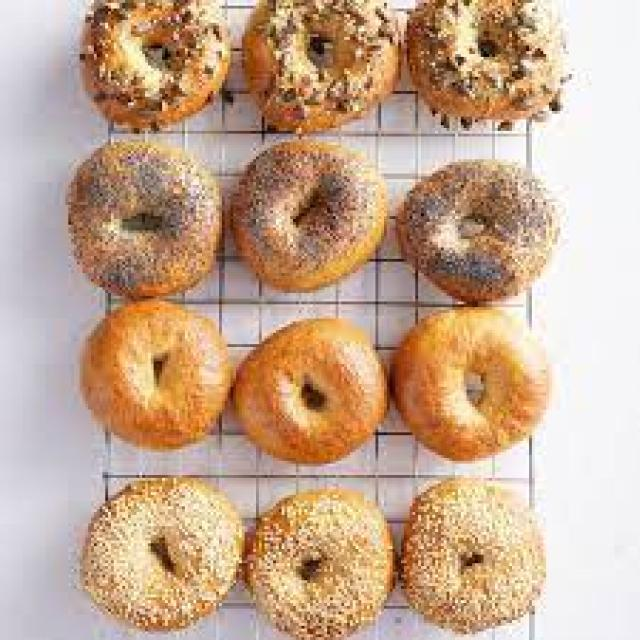Bagel: (82, 479, 244, 629), (392, 308, 548, 460), (69, 141, 220, 298), (232, 142, 385, 291), (399, 162, 560, 302), (232, 319, 388, 462), (402, 479, 545, 632), (248, 492, 392, 640), (244, 0, 401, 133), (85, 304, 225, 447), (408, 4, 565, 126), (82, 0, 230, 129)
